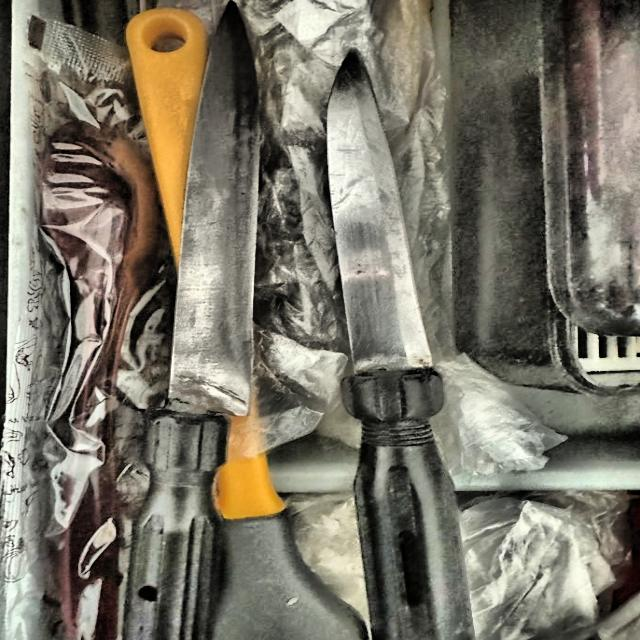knife: (325, 52, 481, 640), (134, 0, 262, 640)
